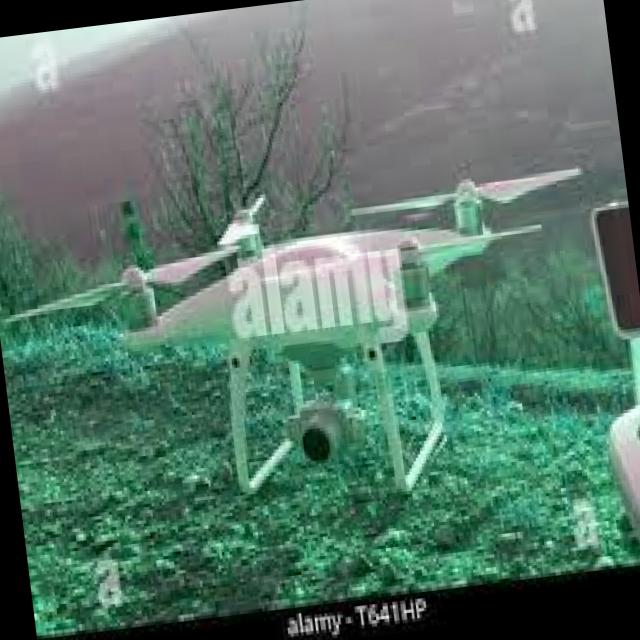drone: (0, 130, 622, 536)
